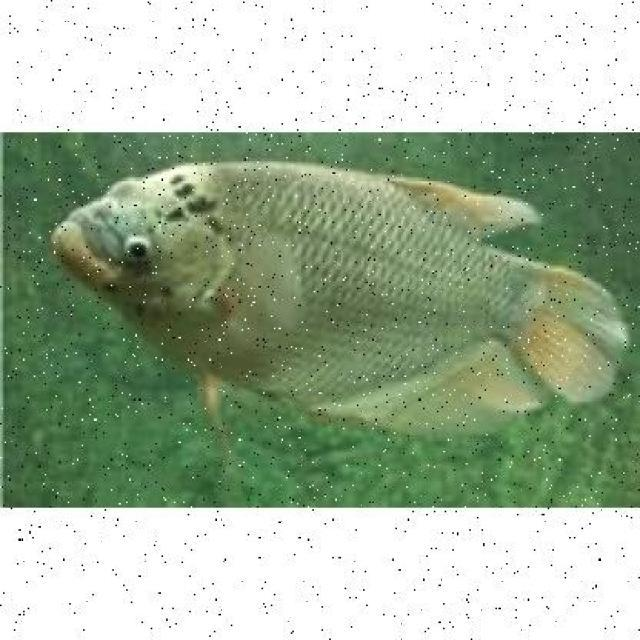gurame: (51, 152, 614, 442)
